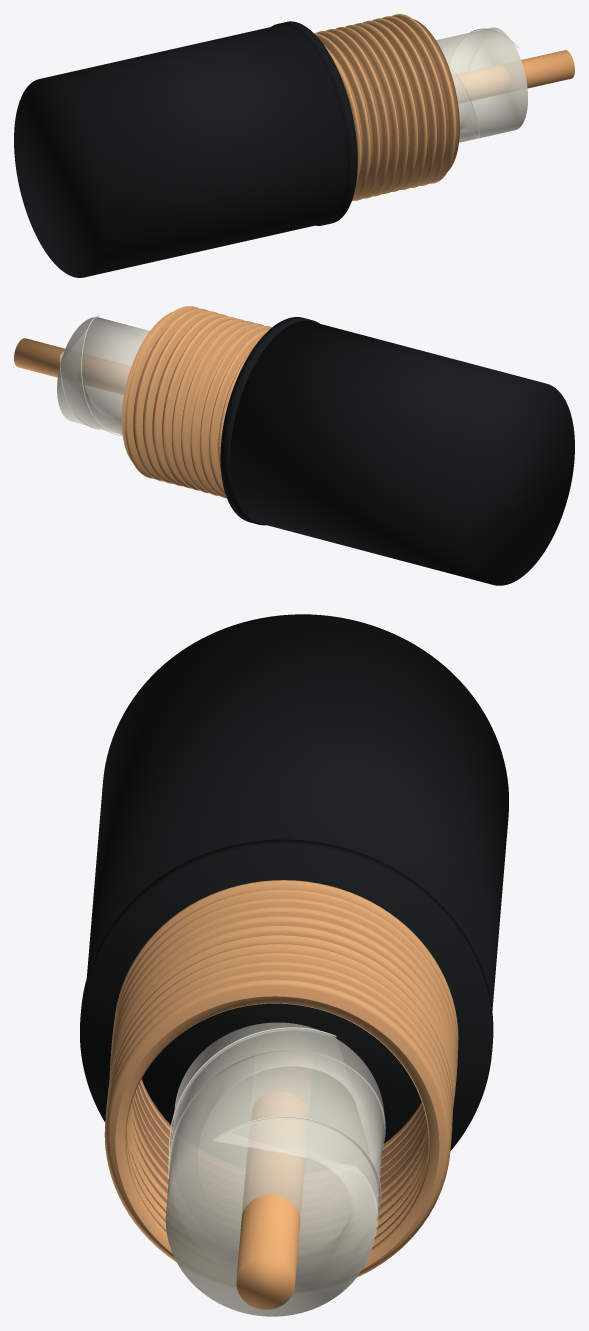
Rendered from rf-ava7-50.glb.
3 renders of one model, top to bottom at view 1: azimuth 30°, elevation 25°; view 2: azimuth 150°, elevation 25°; view 3: azimuth 270°, elevation 25°, orthographic. The views are drawn at different scales.
Visible parts, largest first — view 1: black PE jacket body, corrugated copper shield, foam PE dielectric, solid center conductor continuous, jacket cut lip, dark groove shadow pass, surface PTFE tape wrap; view 2: black PE jacket body, corrugated copper shield, foam PE dielectric, solid center conductor continuous, jacket cut lip, dark groove shadow pass, surface PTFE tape wrap; view 3: black PE jacket body, corrugated copper shield, foam PE dielectric, jacket cut lip, surface PTFE tape wrap, solid center conductor continuous, dark groove shadow pass, subtle PTFE tape lap line.
Part boxes in pixels (left/top/right/bottom): black PE jacket body: left=14, top=25, right=347, bottom=277; corrugated copper shield: left=314, top=14, right=459, bottom=200; foam PE dielectric: left=436, top=27, right=527, bottom=142; solid center conductor continuous: left=453, top=50, right=574, bottom=102; jacket cut lip: left=271, top=21, right=357, bottom=225; dark groove shadow pass: left=344, top=30, right=448, bottom=162; surface PTFE tape wrap: left=448, top=29, right=517, bottom=139; black PE jacket body: left=230, top=321, right=574, bottom=585; corrugated copper shield: left=121, top=306, right=271, bottom=498; foam PE dielectric: left=57, top=317, right=149, bottom=434; solid center conductor continuous: left=14, top=338, right=130, bottom=394; jacket cut lip: left=220, top=317, right=319, bottom=525; dark groove shadow pass: left=133, top=324, right=216, bottom=448; surface PTFE tape wrap: left=60, top=316, right=121, bottom=434; black PE jacket body: left=86, top=614, right=508, bottom=1010; corrugated copper shield: left=104, top=880, right=458, bottom=1277; foam PE dielectric: left=165, top=1022, right=384, bottom=1316; jacket cut lip: left=80, top=839, right=493, bottom=1150; surface PTFE tape wrap: left=168, top=1029, right=385, bottom=1280; solid center conductor continuous: left=236, top=1091, right=308, bottom=1309; dark groove shadow pass: left=131, top=1079, right=427, bottom=1248; subtle PTFE tape lap line: left=168, top=1027, right=381, bottom=1219.
Size of the model in its own units: 6.69 by 2.39 by 2.49.
